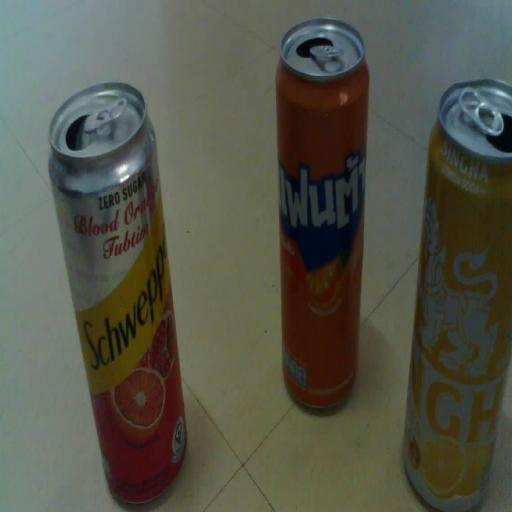canned: (34, 56, 200, 512), (396, 61, 511, 512), (265, 8, 373, 432)
